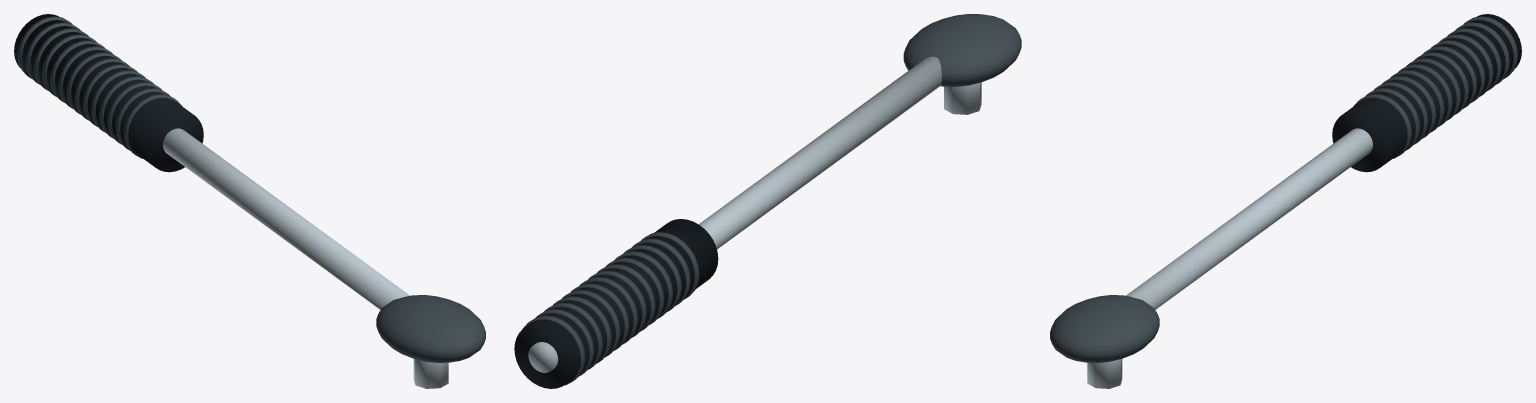
File: PROP_Wrench.glb
The picture shows the model from 3 angles, left to right: view 1: azimuth 30°, elevation 25°; view 2: azimuth 150°, elevation 25°; view 3: azimuth 330°, elevation 25°; orthographic projection. The views are drawn at different scales.
Visible parts, largest first — view 1: PROP_Wrench; view 2: PROP_Wrench; view 3: PROP_Wrench.
Part boxes in pixels (x1=…): PROP_Wrench: x1=14, y1=14, x2=485, y2=388; PROP_Wrench: x1=514, y1=14, x2=1021, y2=388; PROP_Wrench: x1=1050, y1=14, x2=1521, y2=388.
Size of the model in its own units: 0.056 by 0.051 by 0.469.
1 material, 1 textured.
